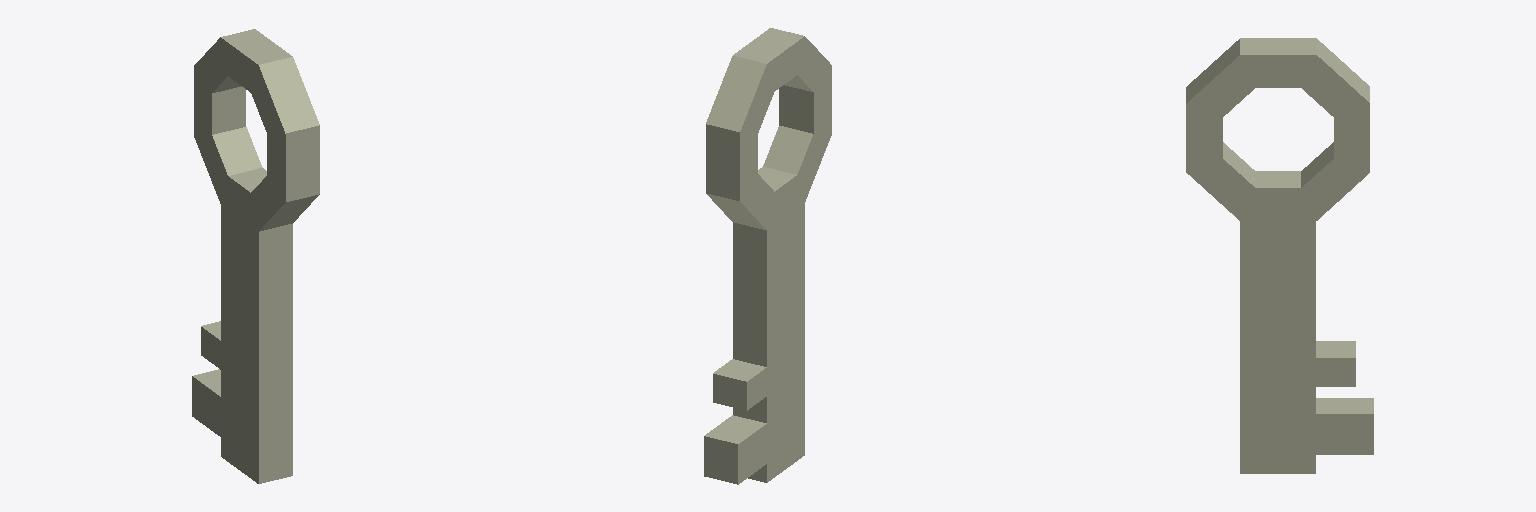
Rendered from key.obj.
The picture shows the model from 3 angles: view 1: azimuth 30°, elevation 25°; view 2: azimuth 150°, elevation 25°; view 3: azimuth 270°, elevation 25°; orthographic projection.
Visible parts, largest first — view 1: Plane; view 2: Plane; view 3: Plane.
Boxes of the visible parts, x1,y1,x2,y2 form: Plane: [192, 29, 319, 483]; Plane: [704, 28, 831, 484]; Plane: [1186, 38, 1373, 473].
Size of the model in its own units: 0.01 by 0.1162 by 0.047.